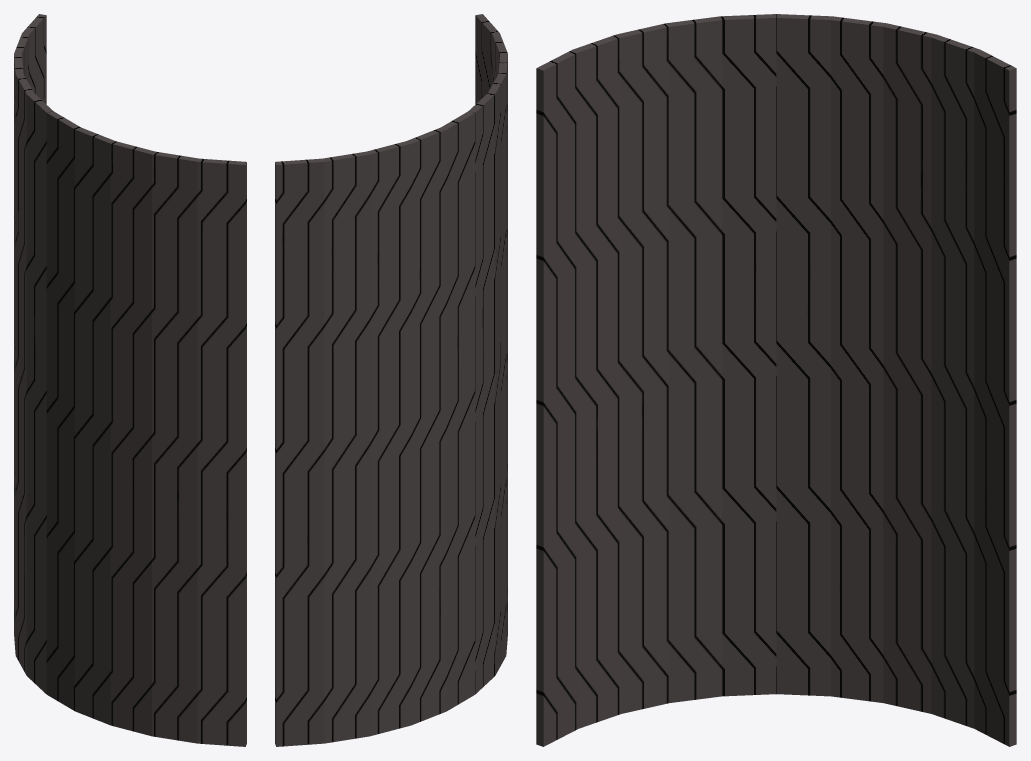
The model's file is pod_bay_door.glb.
3 views of the same model, side by side, from view 1: azimuth 30°, elevation 25°; view 2: azimuth 150°, elevation 25°; view 3: azimuth 270°, elevation 25° (orthographic). The views are drawn at different scales.
Parts seen in each view (by area): view 1: PodBayDoor; view 2: PodBayDoor; view 3: PodBayDoor.
Part boxes in pixels (left/top/right/bottom): PodBayDoor: left=14, top=14, right=246, bottom=746; PodBayDoor: left=275, top=14, right=507, bottom=746; PodBayDoor: left=536, top=14, right=1016, bottom=746.
Bounding box in the file's own units: 0.8804 × 4.9 × 3.15.
1 material, 1 textured.
